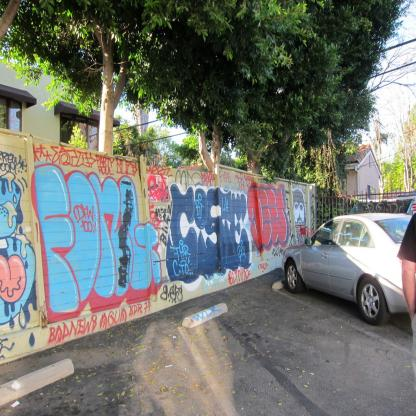Car: (283, 212, 413, 329)
